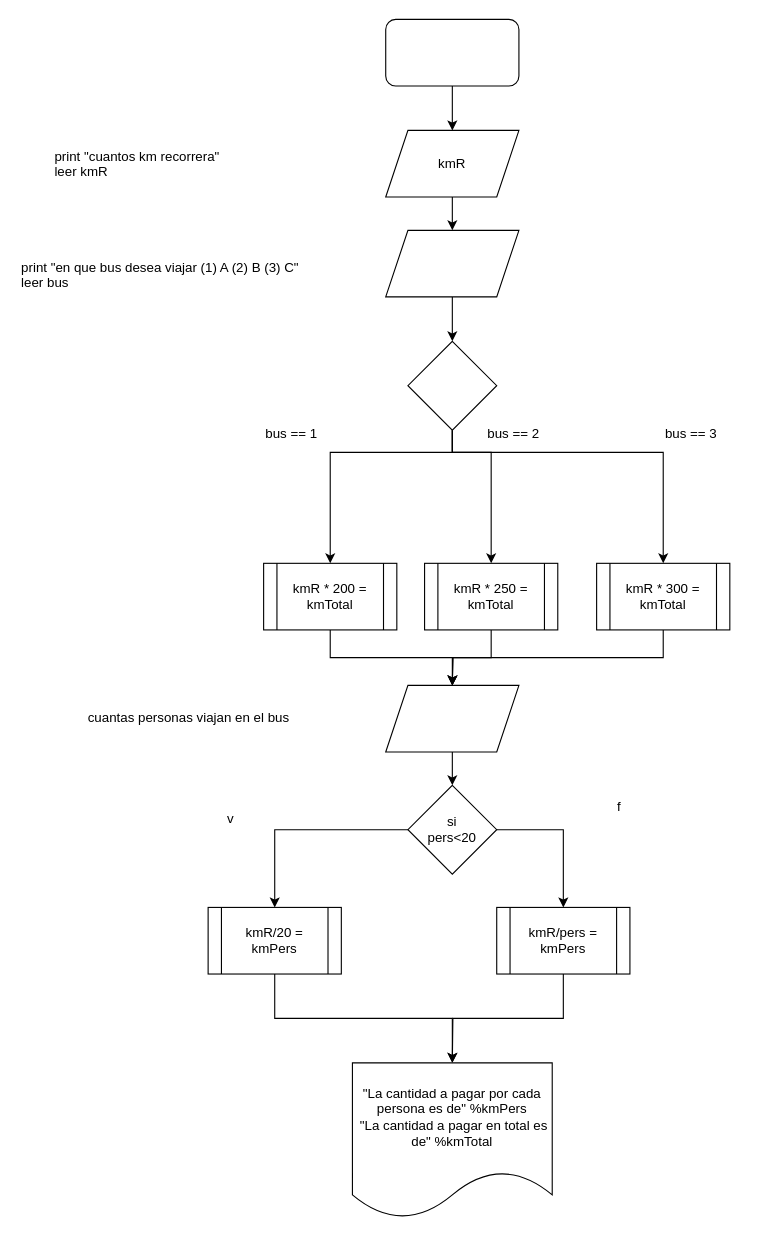
Image size: 759x1238. Some labels were removed from this diagram. The shapes that lost their labels are listed below. From the top down, each one's centre as x and y in pixels, then its label:
At point 452,52: "inicio".
At point 452,263: "bus".
At point 452,385: "para".
At point 452,718: "pers".
